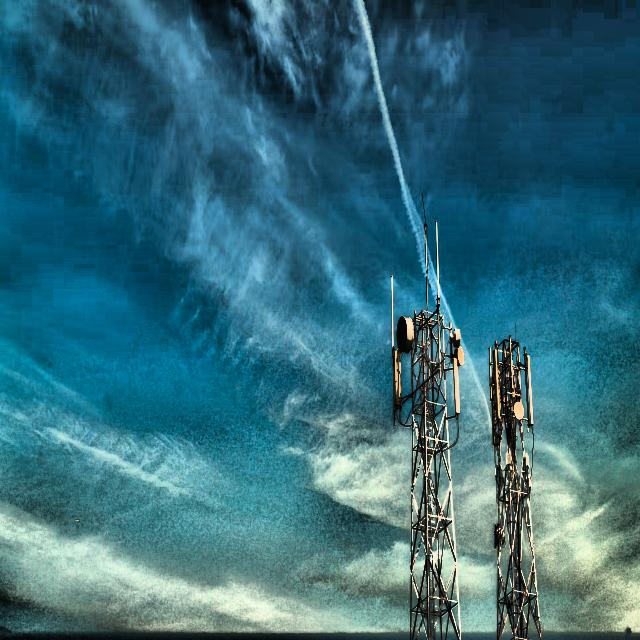antenna: (490, 348, 501, 420), (524, 351, 533, 426), (452, 357, 459, 415)
